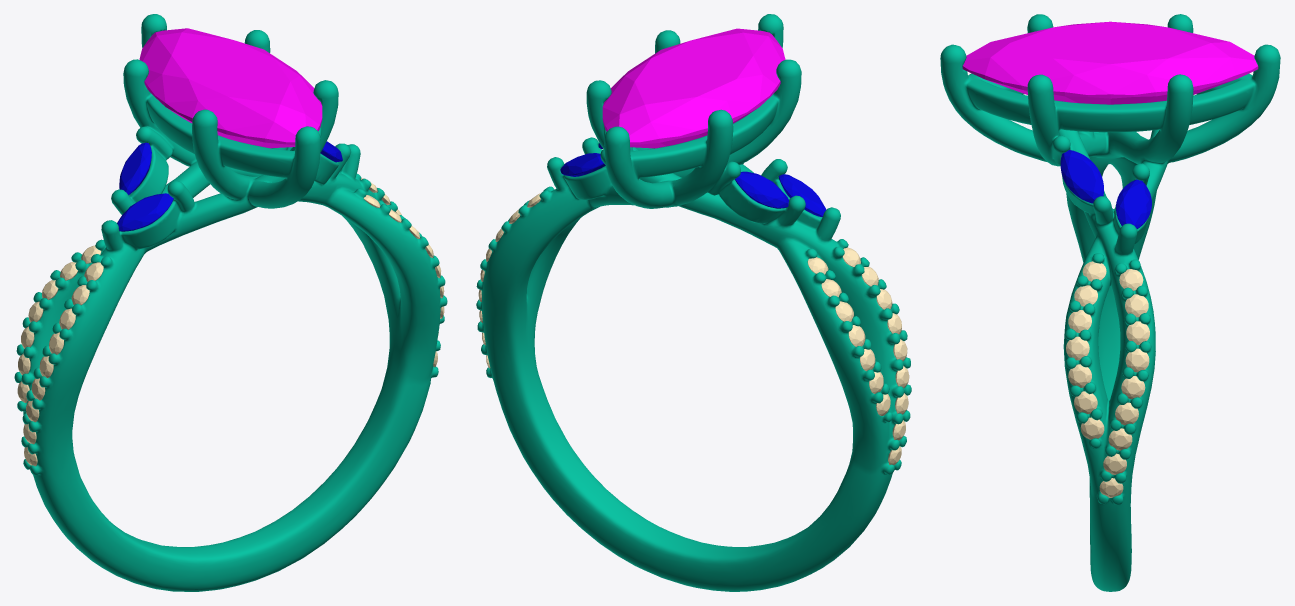
File: BE104B_MQ_200ct_RENDER.glb
The picture shows the model from 3 angles, left to right: view 1: azimuth 30°, elevation 25°; view 2: azimuth 150°, elevation 25°; view 3: azimuth 270°, elevation 25°; orthographic projection. The views are drawn at different scales.
Visible parts, largest first — view 1: Metal 01, CS_Diamond_Marquise, Diamond_Marquise_side.002, Diamond_Marquise_side.003; view 2: Metal 01, CS_Diamond_Marquise, Diamond_Marquise_side.003, Diamond_Marquise_side.002, Diamond_Marquise_side; view 3: Metal 01, CS_Diamond_Marquise, Diamond_Marquise_side.001, Diamond_Marquise_side.
Boxes of the visible parts, x1,y1,x2,y2 form: Metal 01: (14, 14, 447, 591); CS_Diamond_Marquise: (139, 28, 322, 148); Diamond_Marquise_side.002: (117, 193, 173, 231); Diamond_Marquise_side.003: (119, 142, 151, 195); Metal 01: (476, 14, 911, 591); CS_Diamond_Marquise: (602, 28, 785, 148); Diamond_Marquise_side.003: (734, 171, 788, 208); Diamond_Marquise_side.002: (778, 174, 826, 217); Diamond_Marquise_side: (560, 153, 605, 176); Metal 01: (940, 14, 1280, 591); CS_Diamond_Marquise: (962, 21, 1258, 104); Diamond_Marquise_side.001: (1060, 150, 1103, 203); Diamond_Marquise_side: (1116, 179, 1151, 228).
Size of the model in its own units: 20.63 by 24.41 by 14.3.
